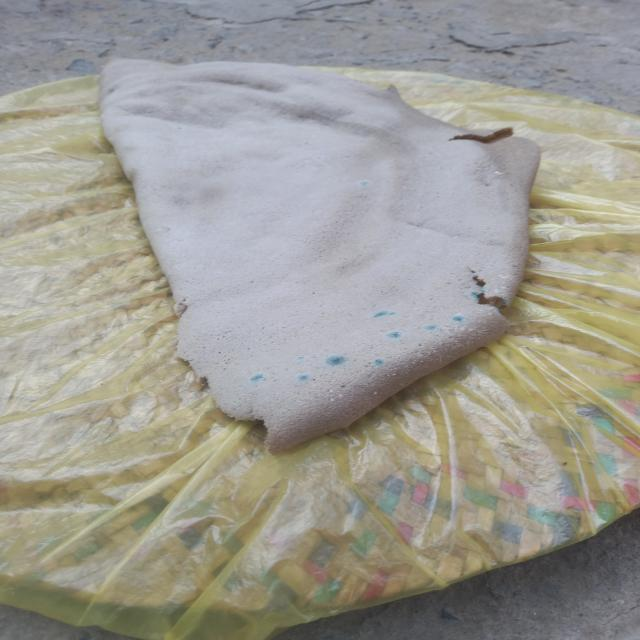injera_mold: (468, 328, 491, 340), (324, 355, 346, 366), (442, 325, 468, 333), (249, 373, 264, 382), (357, 179, 372, 188), (386, 331, 400, 339), (452, 314, 466, 322), (493, 285, 509, 292), (373, 310, 388, 317), (297, 374, 310, 382), (502, 276, 518, 282), (419, 350, 430, 358), (424, 324, 436, 331), (470, 291, 480, 299), (373, 359, 385, 365), (502, 296, 509, 304), (436, 356, 444, 362), (431, 346, 438, 352), (176, 126, 183, 131), (296, 356, 304, 360), (388, 312, 396, 316), (494, 171, 502, 175), (481, 286, 486, 292), (338, 394, 342, 398), (420, 359, 424, 363), (415, 309, 420, 312), (392, 373, 397, 376), (330, 398, 334, 401), (373, 392, 377, 395), (436, 353, 440, 356), (328, 390, 333, 392), (414, 359, 417, 362), (499, 274, 502, 276), (448, 356, 450, 357)
